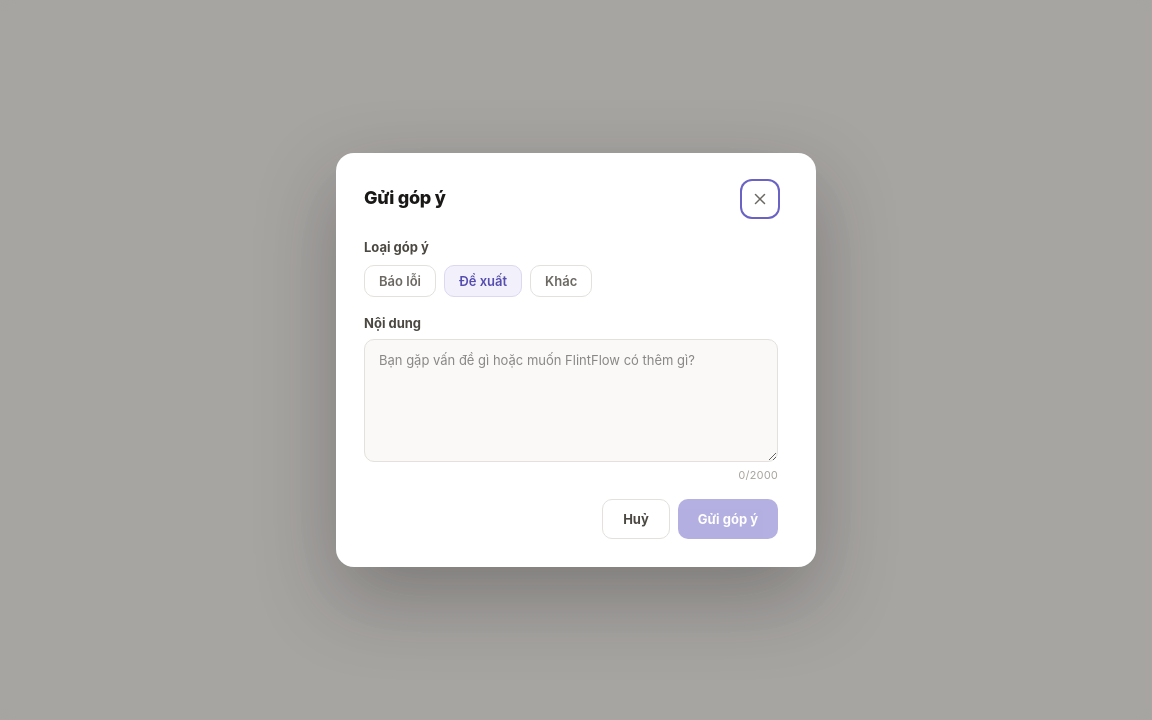
FeedbackDialog (UC-12) › lỗi BE hiện ngay trong form, giữ nội dung đã nhập
The width and height of the screenshot is (1152, 720).
Step 1. Type "Ý kiến" into the text box labelled "Nội dung" → coordinates (571, 400), box [364, 339, 778, 462]
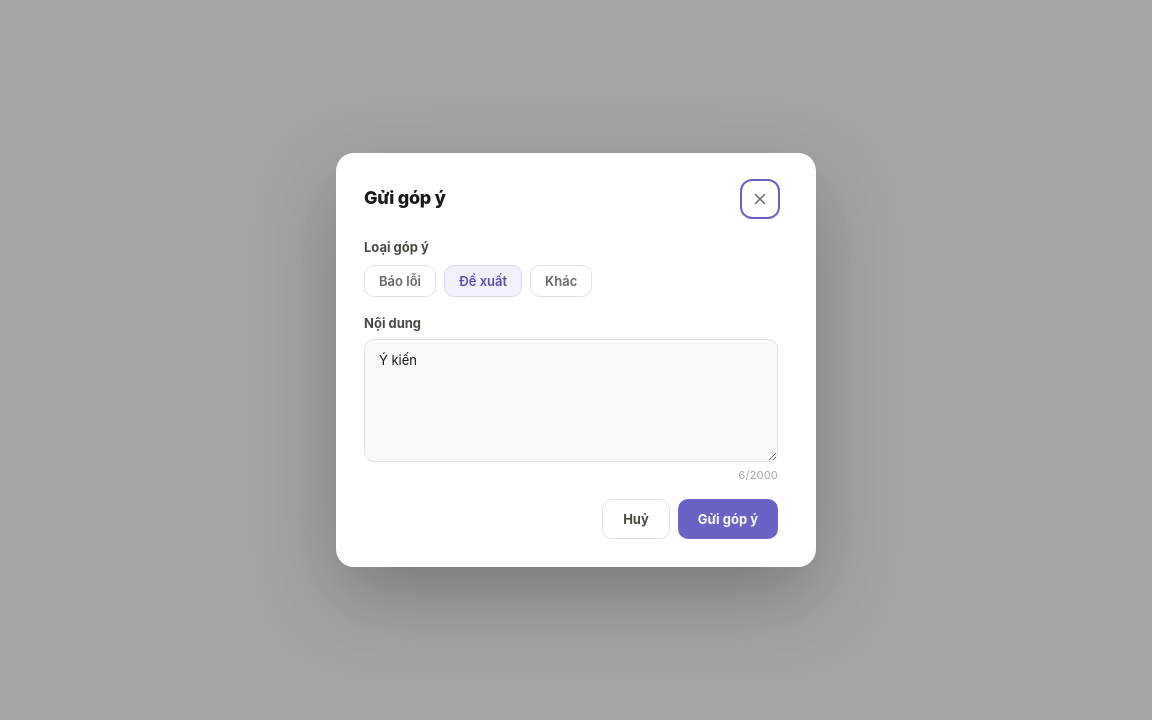
Step 2. Click the button "Gửi góp ý" → coordinates (728, 520), box [678, 500, 778, 540]
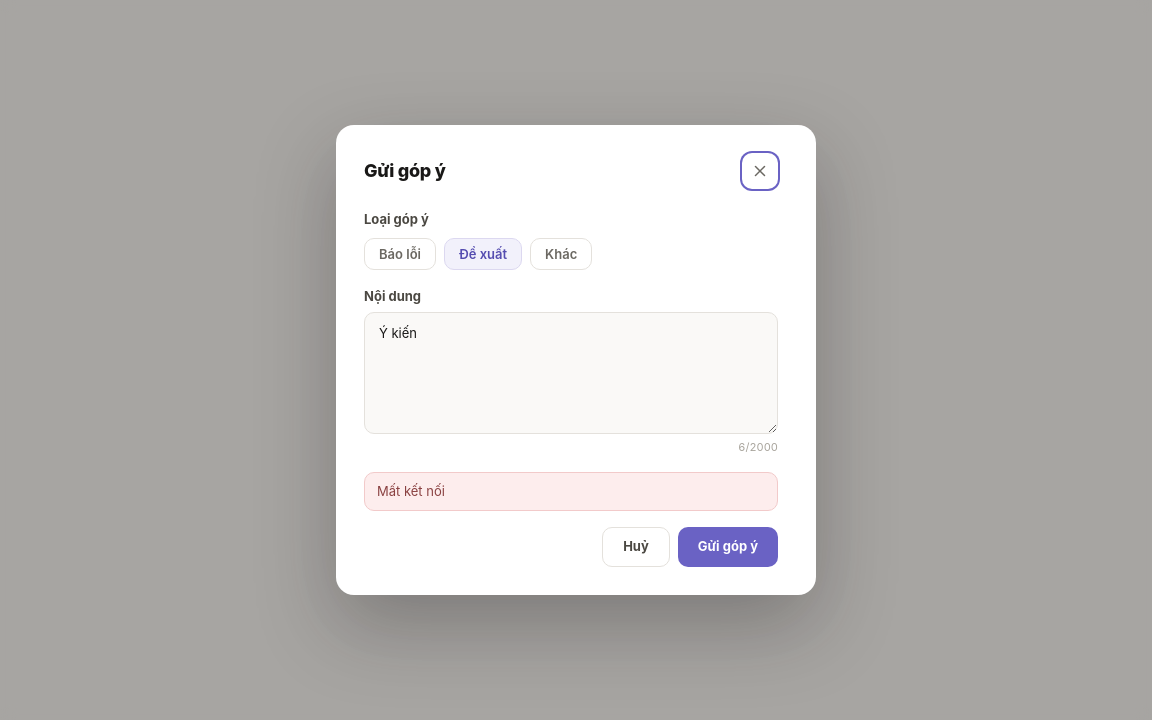
Check: the message reads "Mất kết nối", box [377, 483, 445, 499]
